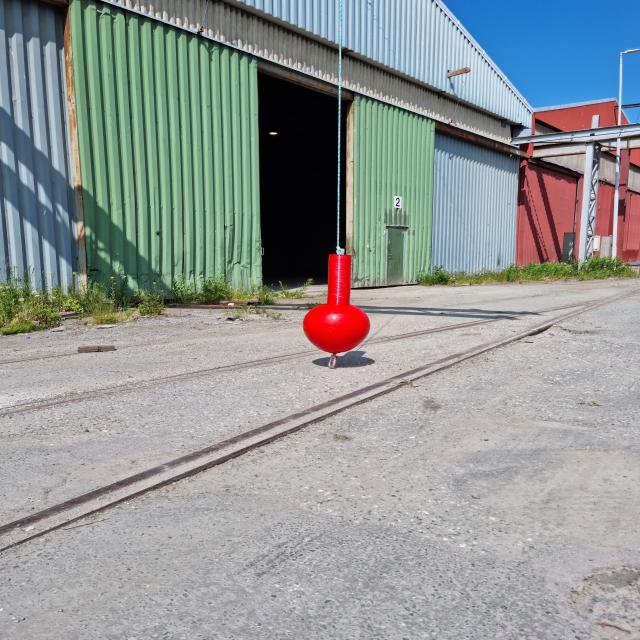red: (303, 254, 371, 354)
